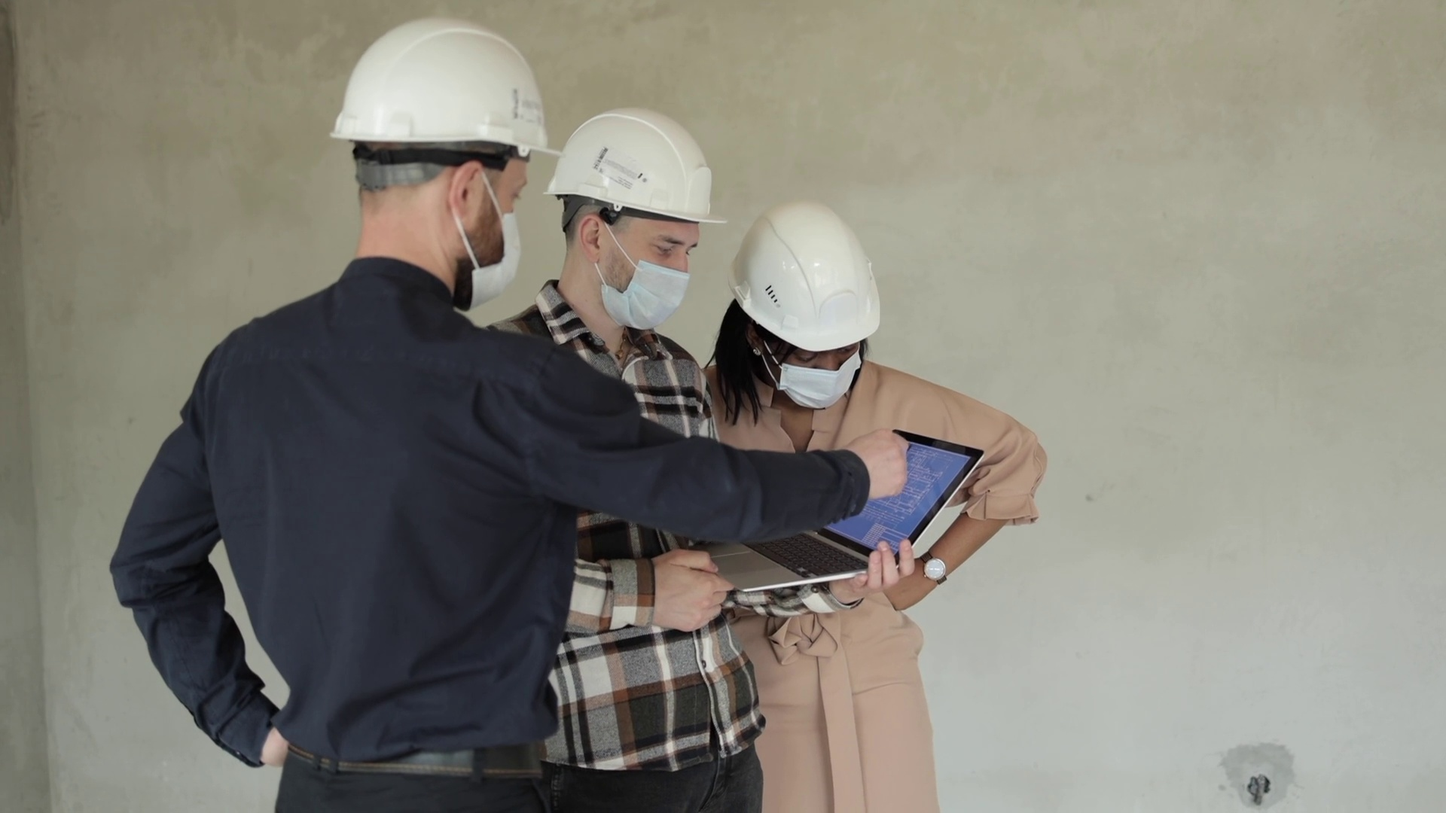helmet: (330, 14, 564, 161), (727, 198, 882, 352), (543, 107, 728, 226)
mask: (599, 259, 691, 332), (468, 212, 522, 312), (776, 348, 861, 410)
person: (106, 12, 911, 813), (488, 106, 919, 813), (703, 199, 1051, 813)
